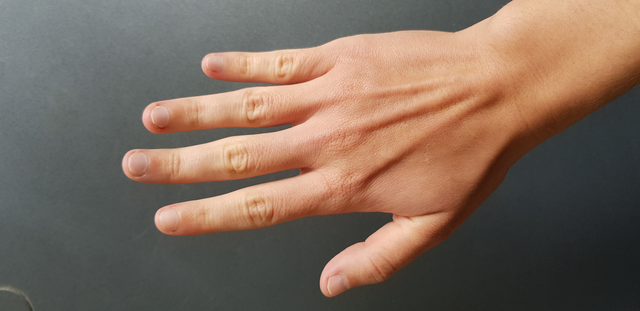Paper: (110, 37, 563, 300)
